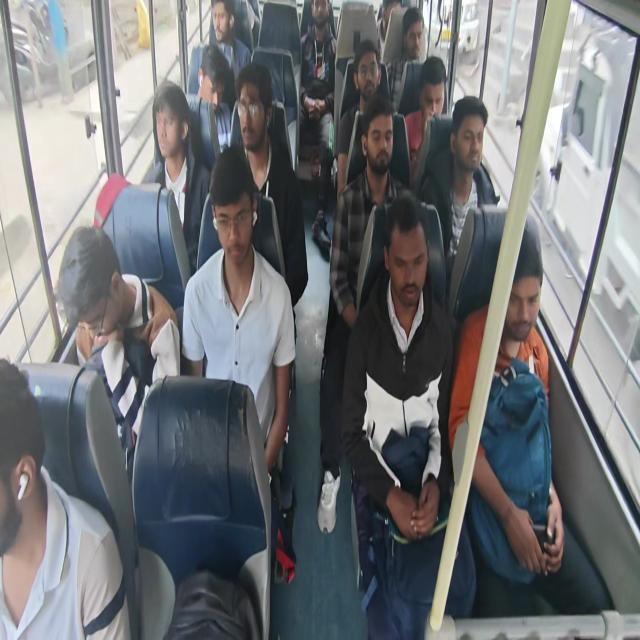person: (52, 222, 130, 350), (0, 366, 49, 548), (497, 237, 542, 339), (211, 167, 253, 264), (385, 228, 429, 315), (144, 72, 181, 162), (454, 101, 484, 175), (362, 109, 392, 177), (242, 81, 268, 153), (417, 61, 448, 120), (198, 52, 229, 111), (355, 52, 380, 103), (309, 0, 333, 39), (211, 5, 234, 37), (407, 14, 424, 55)
